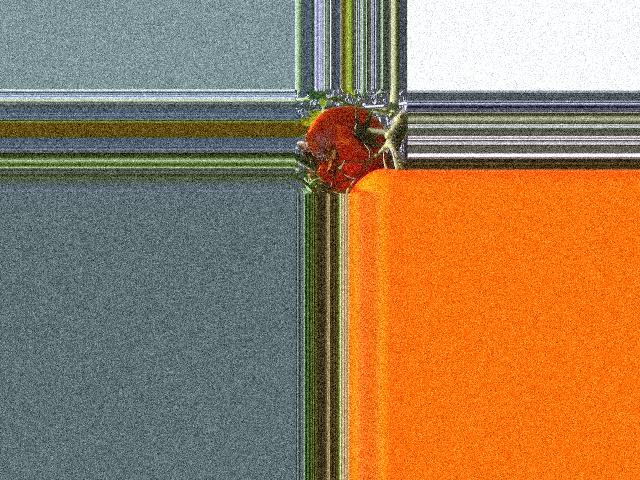tomato: (304, 105, 385, 192)
